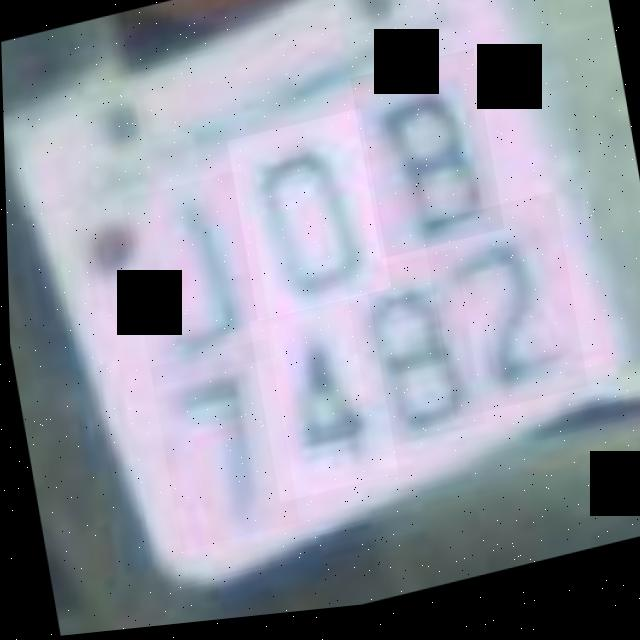2: (419, 201, 586, 431)
4: (246, 299, 396, 511)
7: (148, 342, 298, 557)
8: (342, 256, 483, 461)
B: (349, 57, 503, 269)
J: (119, 172, 274, 393)
O: (226, 114, 390, 328)
